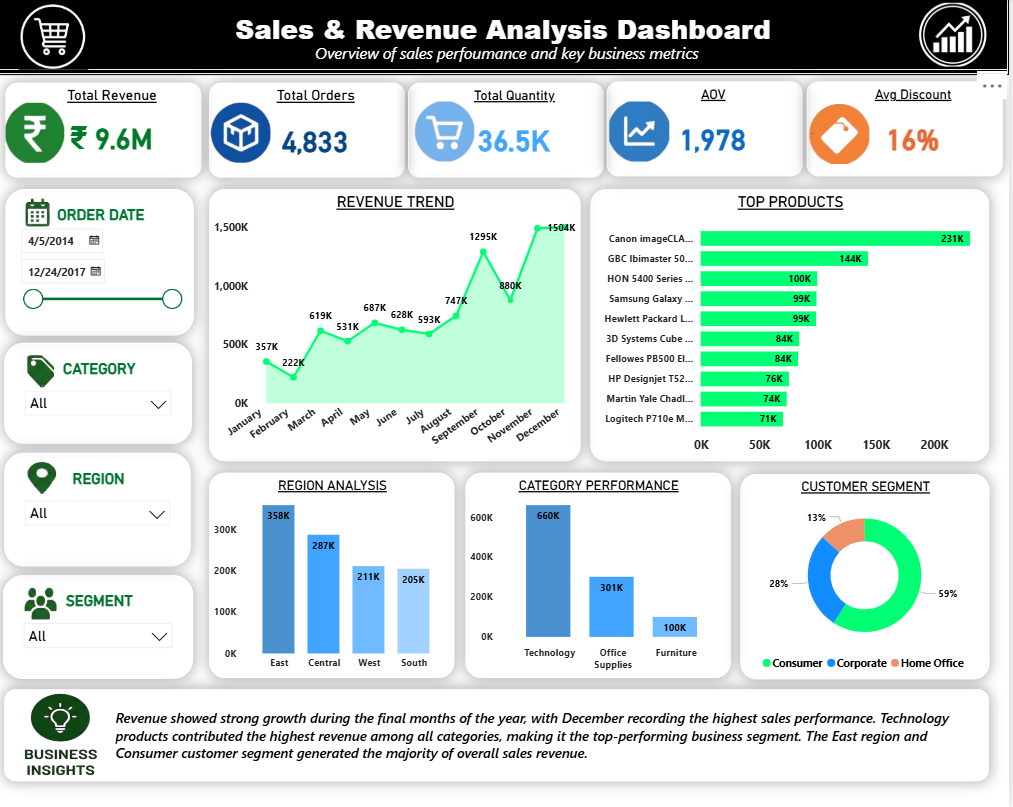

The page's visual inventory and layout, read from the dashboard file:
{"tool":"powerbi","page":{"name":"Page 1","canvas":[1280,1024],"ordinal":0},"visuals":[{"type":"shape","box":[0,0,1279.2,90.2],"z":0,"group":"g5"},{"type":"card","title":"Total Revenue","fields":{"Values":["Orders Data.Total Revenue"]},"box":[10.1,105.8,248,120.3],"z":0,"group":"g6"},{"type":"lineChart","title":"REVENUE TREND","fields":{"Category":["Orders Data.Order Date.Variation.Date Hierarchy.Month"],"Y":["Orders Data.Total Revenue"]},"box":[267.6,241.3,470.2,345.1],"z":0,"group":"g4"},{"type":"shape","box":[288.1,44.3,712.4,45.9],"z":1000,"group":"g5"},{"type":"card","title":"Total Quantity","fields":{"Values":["Orders Data.Total Quantity"]},"box":[519.4,105.8,248,120.3],"z":1000,"group":"g10"},{"type":"clusteredBarChart","title":"TOP PRODUCTS","fields":{"Category":["Orders Data.Product Name"],"Y":["Orders Data.Total Revenue"]},"box":[750.5,241.3,505,345.1],"z":1000,"group":"g4"},{"type":"image","box":[1154.1,0,109.2,90.2],"z":2000,"group":"g5"},{"type":"group","id":"g1","title":"Group 7","box":[5.4,104.2,1268.3,121.9],"z":2000},{"type":"card","title":"Total Orders","fields":{"Values":["Orders Data.Total Orders"]},"box":[268,105.8,248,120.3],"z":2000,"group":"g8"},{"type":"clusteredColumnChart","title":"CATEGORY PERFORMANCE","fields":{"Category":["Orders Data.Category"],"Y":["Orders Data.Total Revenue"]},"box":[592.2,600.7,335.6,259.6],"z":2000,"group":"g4"},{"type":"image","box":[15.8,0,109.2,95],"z":3000,"group":"g5"},{"type":"card","title":"Avg Discount","fields":{"Values":["Orders Data.Avg Discount"]},"box":[1025.2,104.3,248,120.3],"z":3000,"group":"g14"},{"type":"clusteredColumnChart","title":"REGION ANALYSIS","fields":{"Y":["Orders Data.Total Revenue"],"Category":["Orders Data.Region"]},"box":[267.6,600.7,310.3,259.6],"z":3000,"group":"g4"},{"type":"group","id":"g2","title":"Group 11","box":[7.9,874.3,1247.6,117.2],"z":3000},{"type":"card","title":"AOV ","fields":{"Values":["Orders Data.AOV"]},"box":[772.4,104.2,248,120.3],"z":4000,"group":"g12"},{"type":"group","id":"g3","title":"Group 12","box":[6.3,240.6,240.6,620.6],"z":4000},{"type":"donutChart","title":"CUSTOMER SEGMENT","fields":{"Category":["Orders Data.Segment"],"Y":["Orders Data.Total Revenue"]},"box":[940.5,602.3,315.1,259.6],"z":4000,"group":"g4"},{"type":"group","id":"g4","title":"Group 13","box":[267.6,241.3,987.9,620.6],"z":5000},{"type":"group","id":"g5","title":"Group 14","box":[0,0,1279.2,95],"z":5007},{"type":"group","id":"g6","title":"Group 2","box":[5.4,105.8,252.7,120.3],"z":8000,"group":"g1"},{"type":"group","id":"g7","title":"Group 1","box":[8.9,240.6,238.7,185.5],"z":8000,"group":"g3"},{"type":"group","id":"g8","title":"Group 3","box":[264.8,105.8,251.7,120.3],"z":9000,"group":"g1"},{"type":"group","id":"g9","title":"Group 8","box":[7.6,435.9,237.5,127.9],"z":9000,"group":"g3"},{"type":"group","id":"g10","title":"Group 4","box":[519.4,105.8,248.6,120.3],"z":10000,"group":"g1"},{"type":"slicer","title":"ORDER DATE","fields":{"Values":["Orders Data.Order Date"]},"box":[8.9,240.6,238.7,185.5],"z":10000,"group":"g7"},{"type":"group","id":"g11","title":"Group 9","box":[8.4,575.2,235.9,144.1],"z":10000,"group":"g3"},{"type":"group","id":"g12","title":"Group 5","box":[770.8,104.2,250.1,120.3],"z":11000,"group":"g1"},{"type":"slicer","title":"CATEGORY","fields":{"Values":["Orders Data.Category"]},"box":[7.6,435.9,237.5,127.9],"z":11000,"group":"g9"},{"type":"group","id":"g13","title":"Group 10","box":[6.3,729.3,240.6,131.3],"z":11000,"group":"g3"},{"type":"group","id":"g14","title":"Group 6","box":[1023.5,104.3,250.1,120.3],"z":12000,"group":"g1"},{"type":"slicer","title":"REGION","fields":{"Values":["Orders Data.Region"]},"box":[8.4,575.2,235.9,144.1],"z":12000,"group":"g11"},{"type":"image","box":[24.4,245.5,50.7,51.9],"z":13000,"group":"g7"},{"type":"slicer","title":"SEGMENT","fields":{"Values":["Orders Data.Segment"]},"box":[6.3,729.3,240.6,131.3],"z":13000,"group":"g13"},{"type":"image","box":[24.4,444.8,50.7,51.9],"z":14000,"group":"g9"},{"type":"image","box":[31.5,580.3,50.7,51.9],"z":15000,"group":"g11"},{"type":"image","box":[29.1,738,50.7,51.9],"z":16000,"group":"g13"},{"type":"shape","box":[7.9,874.3,1247.6,117.2],"z":17000,"group":"g2"},{"type":"image","box":[522.6,124.9,85.5,85.5],"z":18000,"group":"g10"},{"type":"image","box":[28.5,874.3,104.5,117.2],"z":18000,"group":"g2"},{"type":"image","box":[264.8,127,85.5,85.5],"z":19000,"group":"g8"},{"type":"shape","box":[148.8,874.3,1084.5,117.2],"z":19000,"group":"g2"},{"type":"image","box":[770.8,124.8,85.8,85.5],"z":19001,"group":"g12"},{"type":"image","box":[1023.5,127.6,85.8,85.5],"z":19003,"group":"g14"},{"type":"image","box":[5.4,126.4,84.2,85.5],"z":19004,"group":"g6"}]}

Visuals, with their boxes in screenshot pixels (x1, y1, x2, y2), scaled from the page's 1280x1024 canvas onto the 1013x807 screenshot:
shape: bbox=(0, 0, 1012, 71)
"Total Revenue" card: bbox=(8, 83, 204, 178)
"REVENUE TREND" lineChart: bbox=(212, 190, 584, 462)
shape: bbox=(228, 35, 792, 71)
"Total Quantity" card: bbox=(411, 83, 607, 178)
"TOP PRODUCTS" clusteredBarChart: bbox=(594, 190, 994, 462)
image: bbox=(913, 0, 1000, 71)
"Group 7" group: bbox=(4, 82, 1008, 178)
"Total Orders" card: bbox=(212, 83, 408, 178)
"CATEGORY PERFORMANCE" clusteredColumnChart: bbox=(469, 473, 734, 678)
image: bbox=(13, 0, 99, 75)
"Avg Discount" card: bbox=(811, 82, 1008, 177)
"REGION ANALYSIS" clusteredColumnChart: bbox=(212, 473, 457, 678)
"Group 11" group: bbox=(6, 689, 994, 781)
"AOV " card: bbox=(611, 82, 808, 177)
"Group 12" group: bbox=(5, 190, 195, 679)
"CUSTOMER SEGMENT" donutChart: bbox=(744, 475, 994, 679)
"Group 13" group: bbox=(212, 190, 994, 679)
"Group 14" group: bbox=(0, 0, 1012, 75)
"Group 2" group: bbox=(4, 83, 204, 178)
"Group 1" group: bbox=(7, 190, 196, 336)
"Group 3" group: bbox=(210, 83, 409, 178)
"Group 8" group: bbox=(6, 344, 194, 444)
"Group 4" group: bbox=(411, 83, 608, 178)
"ORDER DATE" slicer: bbox=(7, 190, 196, 336)
"Group 9" group: bbox=(7, 453, 193, 567)
"Group 5" group: bbox=(610, 82, 808, 177)
"CATEGORY" slicer: bbox=(6, 344, 194, 444)
"Group 10" group: bbox=(5, 575, 195, 678)
"Group 6" group: bbox=(810, 82, 1008, 177)
"REGION" slicer: bbox=(7, 453, 193, 567)
image: bbox=(19, 193, 59, 234)
"SEGMENT" slicer: bbox=(5, 575, 195, 678)
image: bbox=(19, 351, 59, 391)
image: bbox=(25, 457, 65, 498)
image: bbox=(23, 582, 63, 623)
shape: bbox=(6, 689, 994, 781)
image: bbox=(414, 98, 481, 166)
image: bbox=(23, 689, 105, 781)
image: bbox=(210, 100, 277, 167)
shape: bbox=(118, 689, 976, 781)
image: bbox=(610, 98, 678, 166)
image: bbox=(810, 101, 878, 168)
image: bbox=(4, 100, 71, 167)
